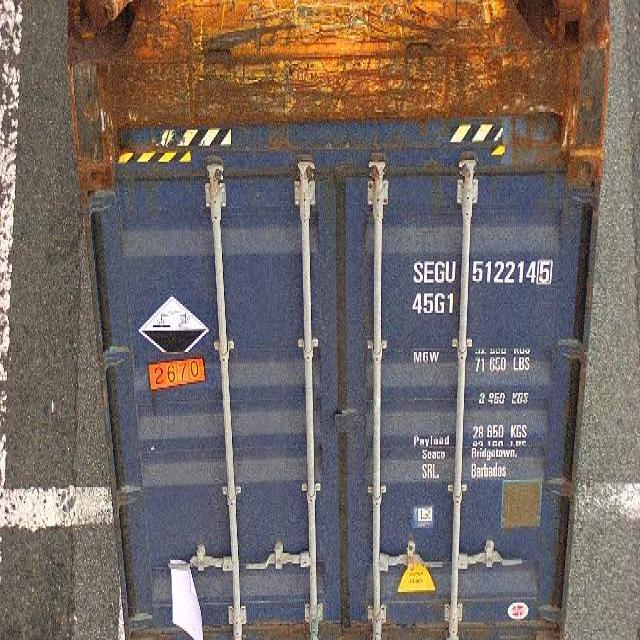ISO: (412, 290, 457, 312)
container_number: (408, 252, 554, 292)
